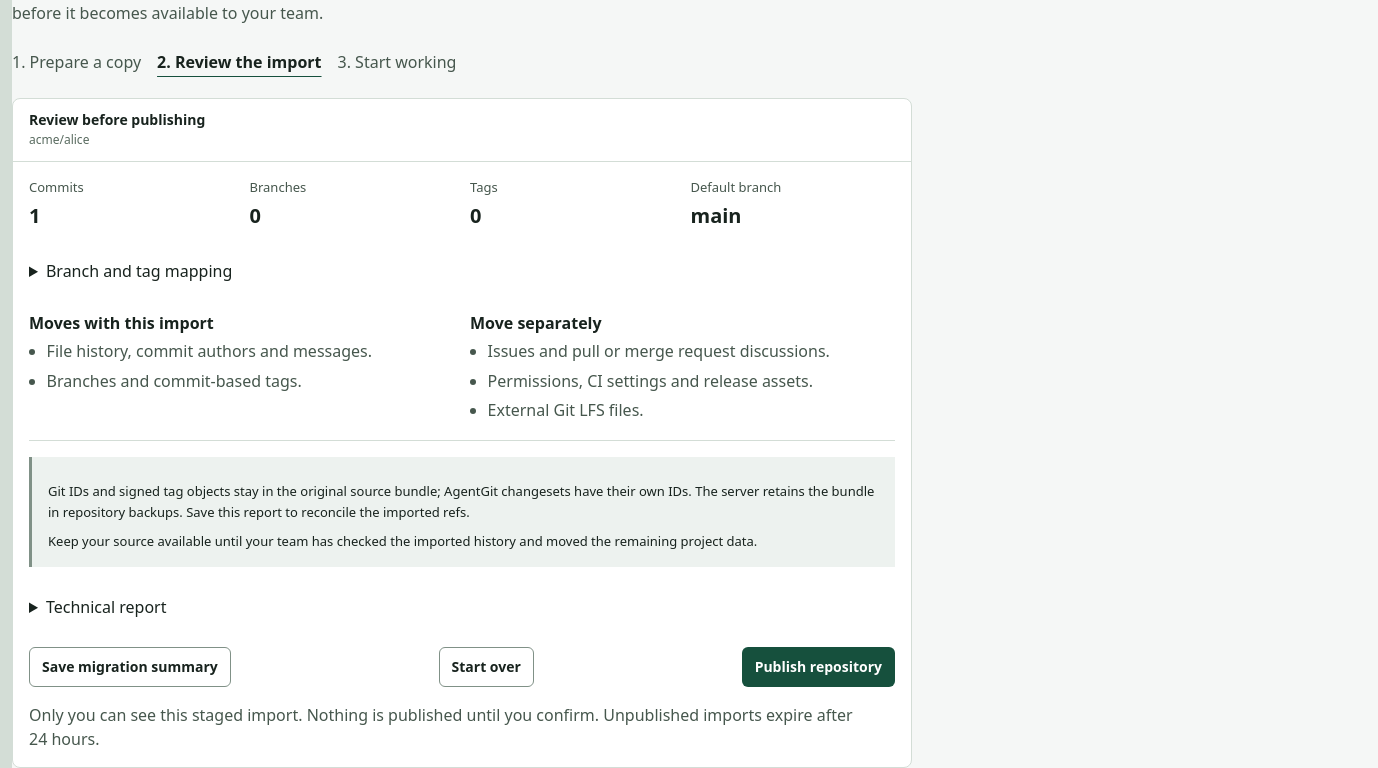
resuming an import › does not replace another account report with a late publish response
(page scrolled)
Click the button "Publish repository" at (818, 667), box x1=742 y1=647 x2=895 y2=687
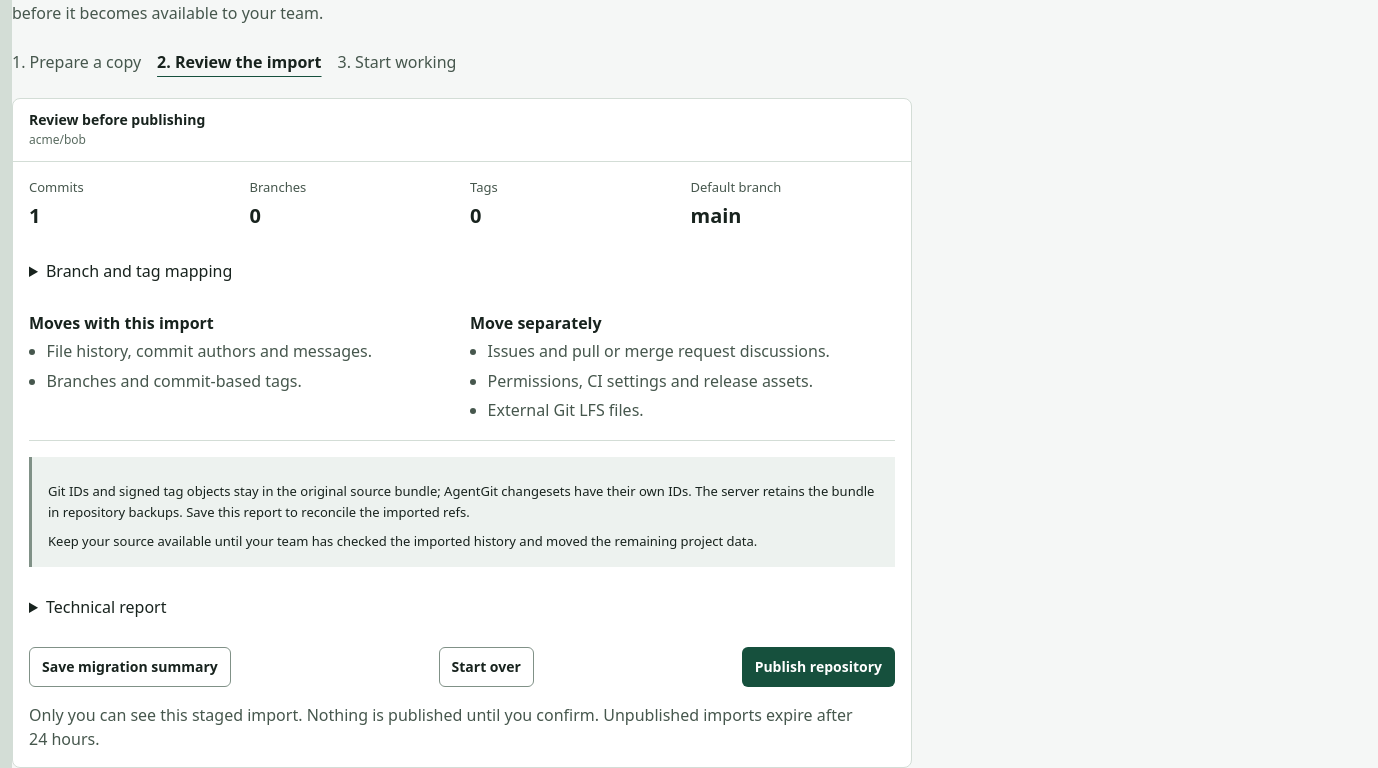
Result: the text "acme/bob" is shown at x1=29 y1=131 x2=86 y2=148
